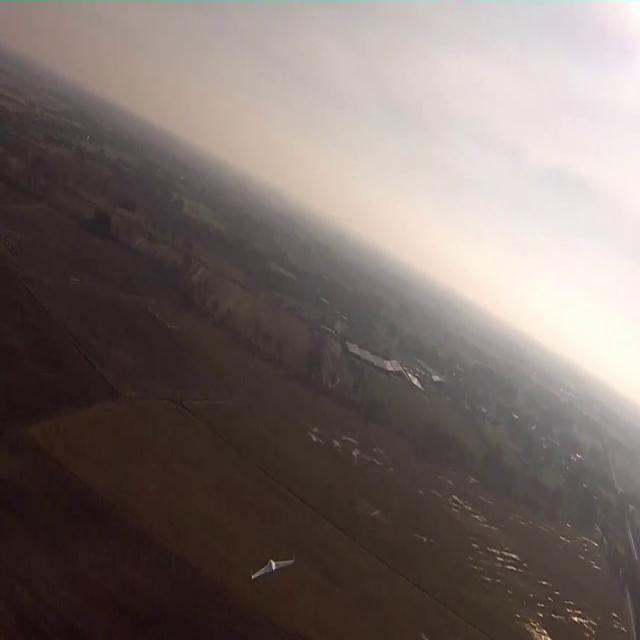iha: (250, 553, 295, 582)
